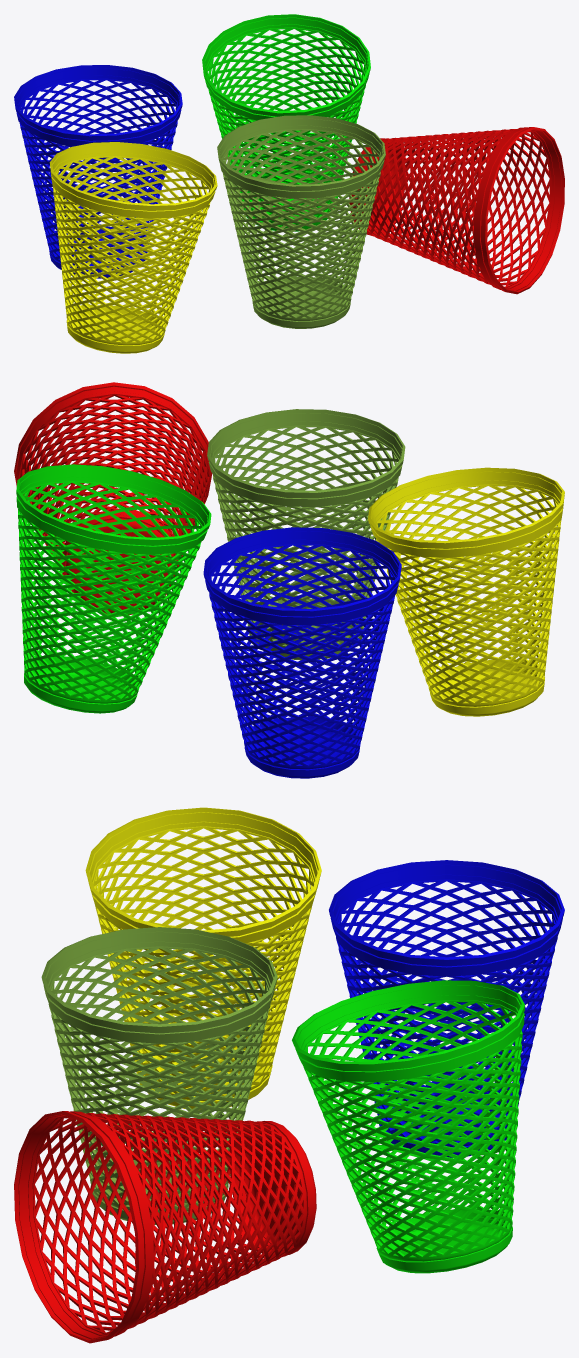
File: Basket plastic trash can v001.fbx
The picture shows the model from 3 angles, top to bottom: view 1: azimuth 30°, elevation 25°; view 2: azimuth 150°, elevation 25°; view 3: azimuth 270°, elevation 25°; orthographic projection. The views are drawn at different scales.
Visible parts, largest first — view 1: can; view 2: can; view 3: can.
Boxes of the visible parts, <box> form: can: <box>14,14,564,353</box>; can: <box>14,382,564,778</box>; can: <box>14,807,564,1343</box>.
Bounding box in the file's own units: 28.67 × 10.28 × 20.42.
